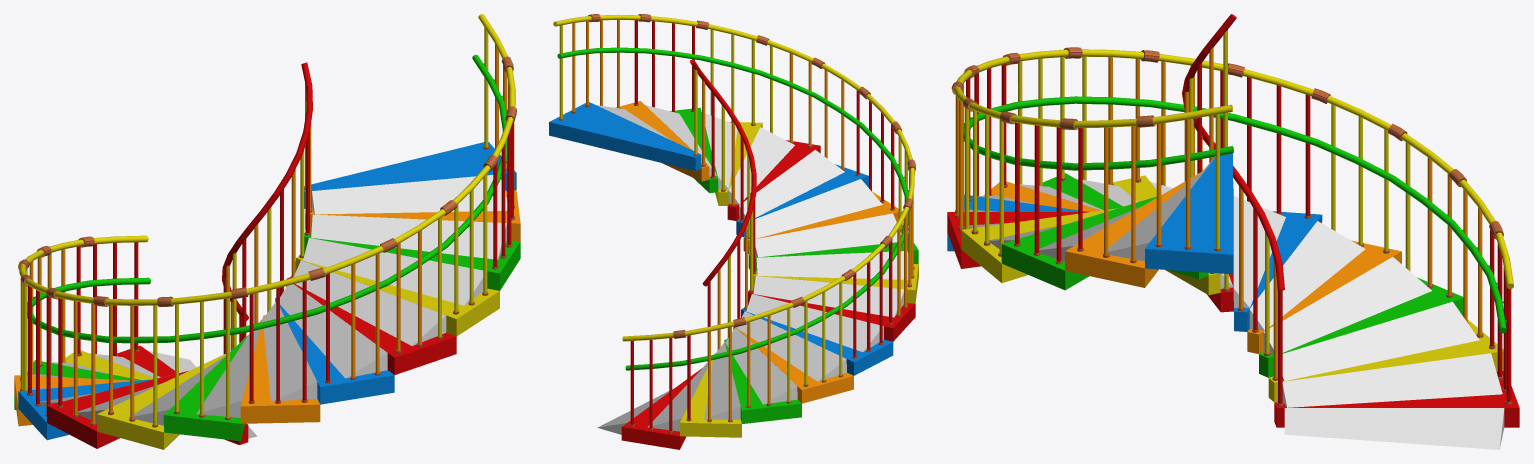
Rendered from escalier.fbx.
3 renders of one model, left to right at view 1: azimuth 30°, elevation 25°; view 2: azimuth 150°, elevation 25°; view 3: azimuth 270°, elevation 25°, orthographic. The views are drawn at different scales.
Visible parts, largest first — view 1: RampesMarches, RambardeExt, RambardeExtInf, Marche, Marches.009, Marches.008, Marches.010, Marches.007, Marches.011, Marches.006, Marches.012, Marches.013 (+30 smaller); view 2: RampesMarches, Marche, RambardeExtInf, RambardeExt, Marches.002, Marches.003, Marches.001, Marches.004, Marches.005, RambardeInt, Bois, Marches.006 (+14 smaller); view 3: RampesMarches, RambardeExtInf, Marche, RambardeExt, Marches.014, Marches.013, Marches.012, Marches.001, Bois, Marches.003, Marches.002, Marches.004 (+37 smaller).
Boxes of the visible parts, x1,y1,x2,y2 form: RampesMarches: (27,175,507,438); RambardeExt: (19,14,515,305); RambardeExtInf: (27,54,507,343); Marche: (304,142,516,208); Marches.009: (240,315,320,423); Marches.008: (163,335,247,441); Marches.010: (275,297,394,404); Marches.007: (97,354,225,449); Marches.011: (286,277,456,374); Marches.006: (47,371,188,448); Marches.012: (295,256,499,336); Marches.013: (304,231,520,290); RampesMarches: (596,105,908,434); Marche: (549,102,701,170); RambardeExtInf: (557,47,908,370); RambardeExt: (553,14,914,341); Marches.002: (679,353,741,437); Marches.003: (724,339,801,423); Marches.001: (621,368,701,449); Marches.004: (733,326,853,403); Marches.005: (741,308,893,375); RambardeInt: (690,59,756,286); Bois: (588,14,915,338); Marches.006: (748,290,915,341); RampesMarches: (963,157,1504,449); RambardeExtInf: (963,96,1506,333); Marche: (1145,153,1233,274); RambardeExt: (954,49,1513,288); Marches.014: (1065,172,1201,287); Marches.013: (1001,196,1156,290); Marches.012: (961,208,1115,282); Marches.001: (1274,371,1519,427); Bois: (951,47,1503,239); Marches.003: (1259,277,1463,377); Marches.002: (1268,319,1503,402); Marches.004: (1247,240,1401,353).
Bounding box in the file's own units: 1484 × 1257 × 1484.
6 materials, 1 textured.
